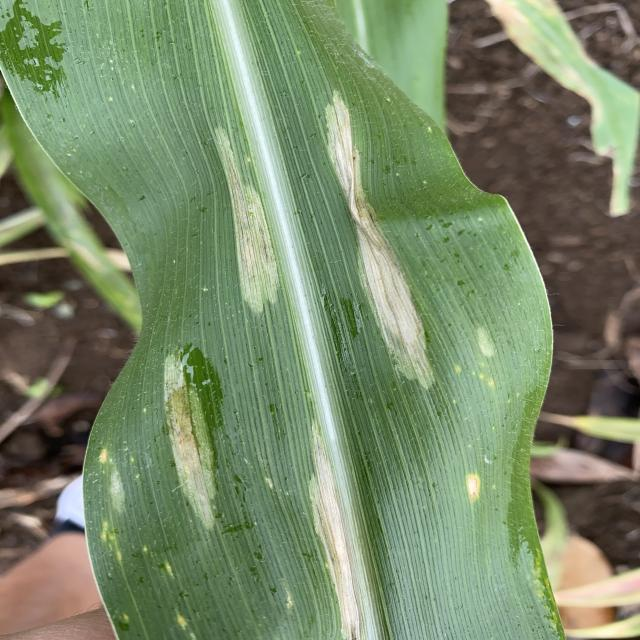Corn_Leaf_Blight: (82, 0, 559, 640)
